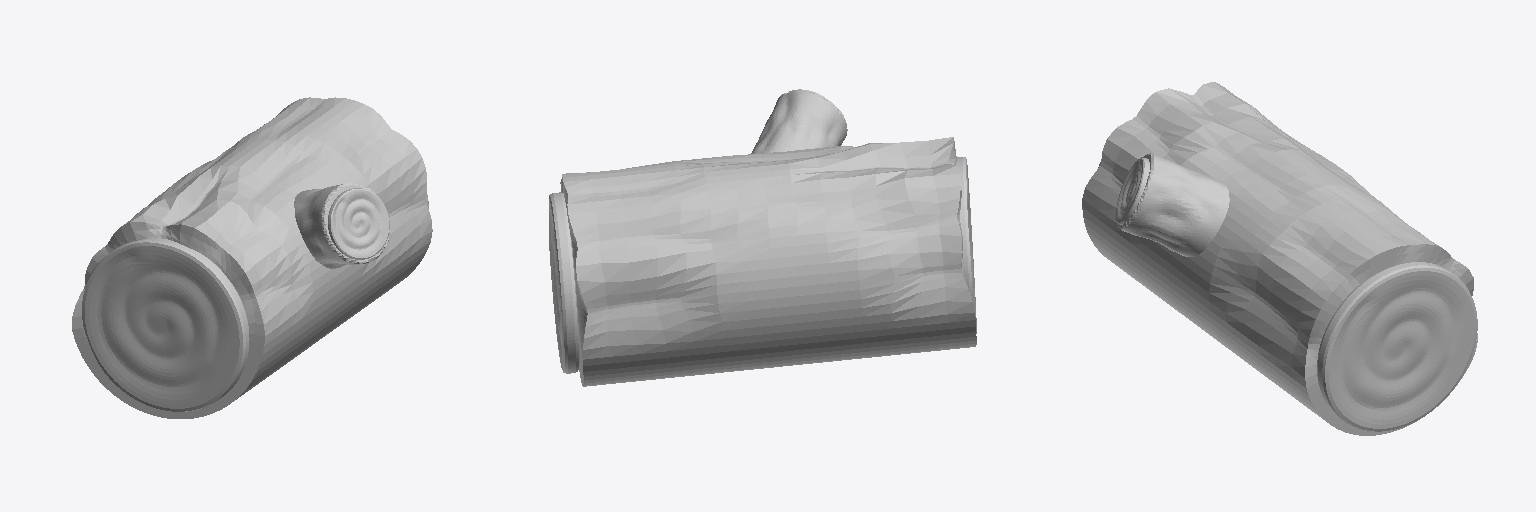
File: log.obj
3 renders of one model, left to right at view 1: azimuth 30°, elevation 25°; view 2: azimuth 150°, elevation 25°; view 3: azimuth 270°, elevation 25°, orthographic.
Parts seen in each view (by area): view 1: Cylinder, Cylinder.002, Cylinder.004, Cylinder.001; view 2: Cylinder, Cylinder.001, Cylinder.003, Cylinder.002; view 3: Cylinder, Cylinder.003, Cylinder.001, Cylinder.004.
Part boxes in pixels (left/top/right/bottom): Cylinder: left=72, top=97, right=432, bottom=418; Cylinder.002: left=82, top=238, right=249, bottom=411; Cylinder.004: left=328, top=188, right=389, bottom=259; Cylinder.001: left=294, top=183, right=389, bottom=268; Cylinder: left=560, top=137, right=976, bottom=386; Cylinder.001: left=751, top=90, right=847, bottom=153; Cylinder.003: left=549, top=192, right=579, bottom=373; Cylinder.002: left=956, top=157, right=976, bottom=333; Cylinder: left=1082, top=82, right=1477, bottom=435; Cylinder.003: left=1317, top=262, right=1477, bottom=431; Cylinder.001: left=1116, top=153, right=1229, bottom=256; Cylinder.004: left=1116, top=157, right=1149, bottom=224.
Size of the model in its own units: 0.8857 by 0.4846 by 0.7755.